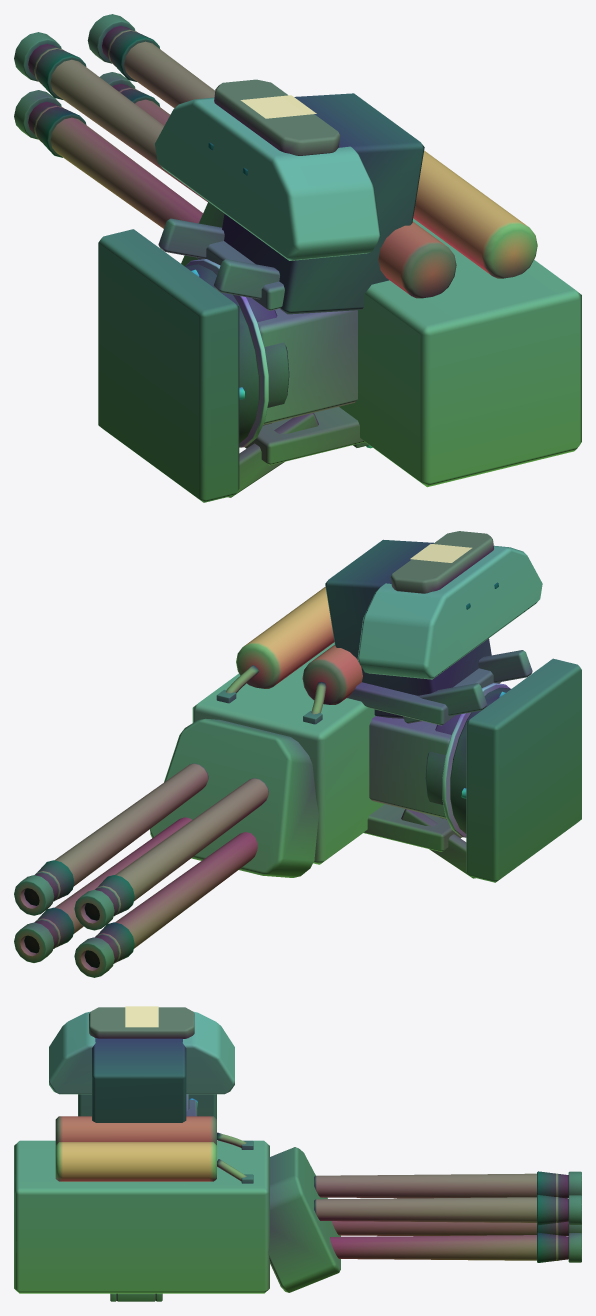
File: arm_mk108.glb
3 views of the same model, one above another, from view 1: azimuth 30°, elevation 25°; view 2: azimuth 150°, elevation 25°; view 3: azimuth 270°, elevation 25° (orthographic). The views are drawn at different scales.
Visible parts, largest first — view 1: Body__armor, Body__gunmetal, Body__dark, Body__armor_sub, Body__armor_oxide, Body__brass, Body__chrome, Body__decal; view 2: Body__gunmetal, Body__armor, Body__armor_sub, Body__dark, Body__armor_oxide, Body__brass, Body__chrome, Body__bore, Body__decal, Body__copper; view 3: Body__armor, Body__gunmetal, Body__dark, Body__armor_sub, Body__brass, Body__armor_oxide, Body__decal, Body__copper.
Boxes of the visible parts, box(x1,y1,x2,y2) form: Body__armor: box(155, 97, 581, 487); Body__gunmetal: box(14, 14, 368, 502); Body__dark: box(28, 26, 424, 443); Body__armor_sub: box(158, 202, 364, 497); Body__armor_oxide: box(214, 79, 456, 298); Body__brass: box(413, 150, 537, 278); Body__chrome: box(186, 259, 372, 448); Body__decal: box(240, 95, 316, 118); Body__gunmetal: box(14, 658, 581, 977); Body__armor: box(192, 545, 542, 864); Body__armor_sub: box(150, 650, 532, 878); Body__dark: box(35, 539, 510, 963); Body__armor_oxide: box(302, 531, 493, 704); Body__brass: box(236, 586, 334, 688); Body__chrome: box(442, 683, 509, 837); Body__bore: box(24, 888, 99, 967); Body__decal: box(410, 544, 471, 562); Body__copper: box(226, 665, 326, 714); Body__armor: box(14, 1011, 269, 1293); Body__gunmetal: box(78, 1094, 581, 1301); Body__dark: box(92, 1038, 568, 1262); Body__armor_sub: box(186, 1094, 340, 1292); Body__brass: box(55, 1142, 216, 1181); Body__armor_oxide: box(55, 1007, 216, 1144); Body__decal: box(125, 1006, 158, 1027); Body__copper: box(217, 1132, 246, 1181).
Size of the model in its own units: 0.9121 by 0.9269 by 2.04.
